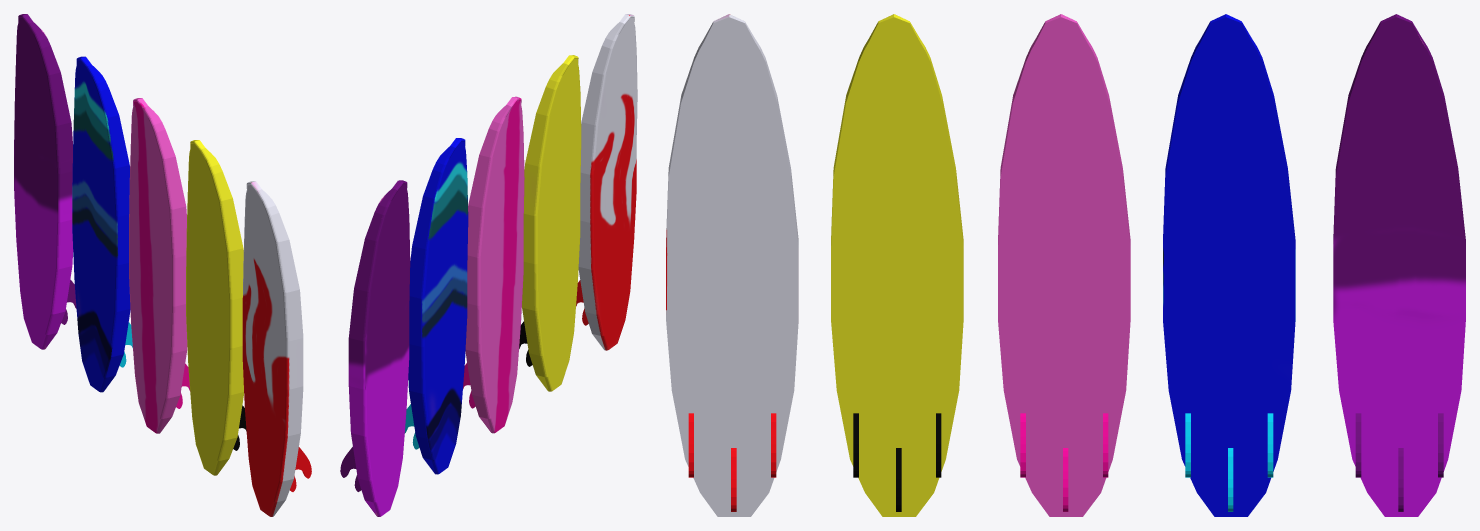
File: pranchadesurf2.fbx
The picture shows the model from 3 angles, left to right: view 1: azimuth 30°, elevation 25°; view 2: azimuth 150°, elevation 25°; view 3: azimuth 270°, elevation 25°; orthographic projection. The views are drawn at different scales.
Visible parts, largest first — view 1: Prancha 3.003, Prancha 3.004, Prancha 3, Prancha 3.002, Prancha 3.001; view 2: Prancha 3.004, Prancha 3.002, Prancha 3.001, Prancha 3, Prancha 3.003; view 3: Prancha 3.004, Prancha 3.002, Prancha 3.003, Prancha 3, Prancha 3.001.
Part boxes in pixels (x1=…): Prancha 3.003: x1=242, y1=181, x2=311, y2=516; Prancha 3.004: x1=14, y1=14, x2=76, y2=349; Prancha 3: x1=129, y1=98, x2=190, y2=433; Prancha 3.002: x1=72, y1=56, x2=132, y2=392; Prancha 3.001: x1=186, y1=140, x2=246, y2=475; Prancha 3.004: x1=340, y1=180, x2=410, y2=516; Prancha 3.002: x1=404, y1=138, x2=468, y2=474; Prancha 3.001: x1=519, y1=55, x2=581, y2=391; Prancha 3: x1=463, y1=96, x2=524, y2=433; Prancha 3.003: x1=576, y1=14, x2=637, y2=350; Prancha 3.004: x1=1333, y1=14, x2=1465, y2=516; Prancha 3.002: x1=1163, y1=14, x2=1295, y2=516; Prancha 3.003: x1=666, y1=14, x2=798, y2=516; Prancha 3: x1=998, y1=14, x2=1130, y2=516; Prancha 3.001: x1=831, y1=14, x2=963, y2=516.
Bounding box in the file's own units: 68.99 × 468 × 692.
5 materials, 5 textured.
